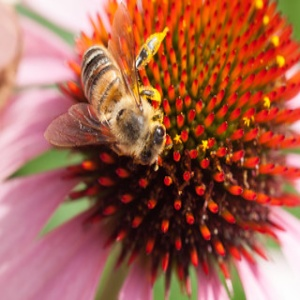bee: (43, 1, 168, 171)
